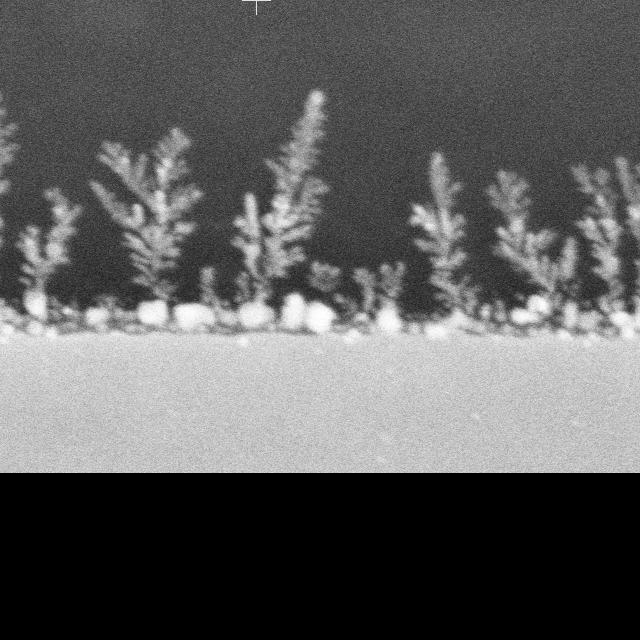Dendrite: (0, 92, 139, 334), (91, 127, 237, 333), (409, 152, 562, 335), (231, 90, 335, 333), (487, 170, 636, 337), (308, 262, 452, 339), (573, 165, 636, 334)
